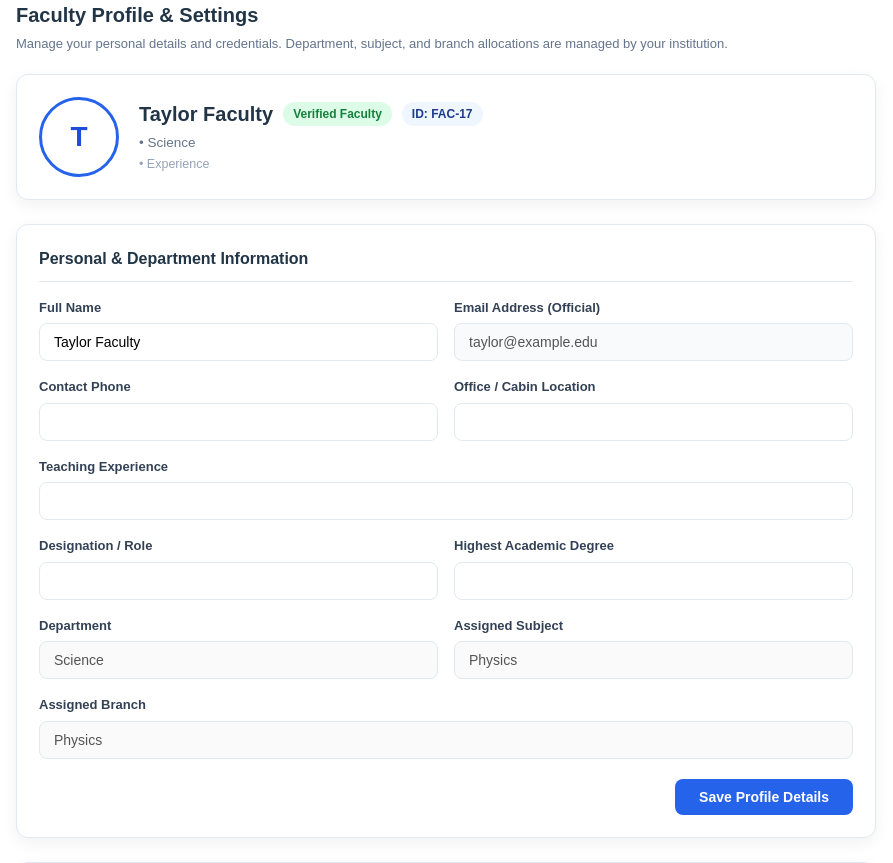
Test: Faculty profile persistence › shows the backend error and does not claim profile changes were saved
The width and height of the screenshot is (893, 863).
Click the button "Save Profile Details" at (764, 796), box [675,778,853,814]
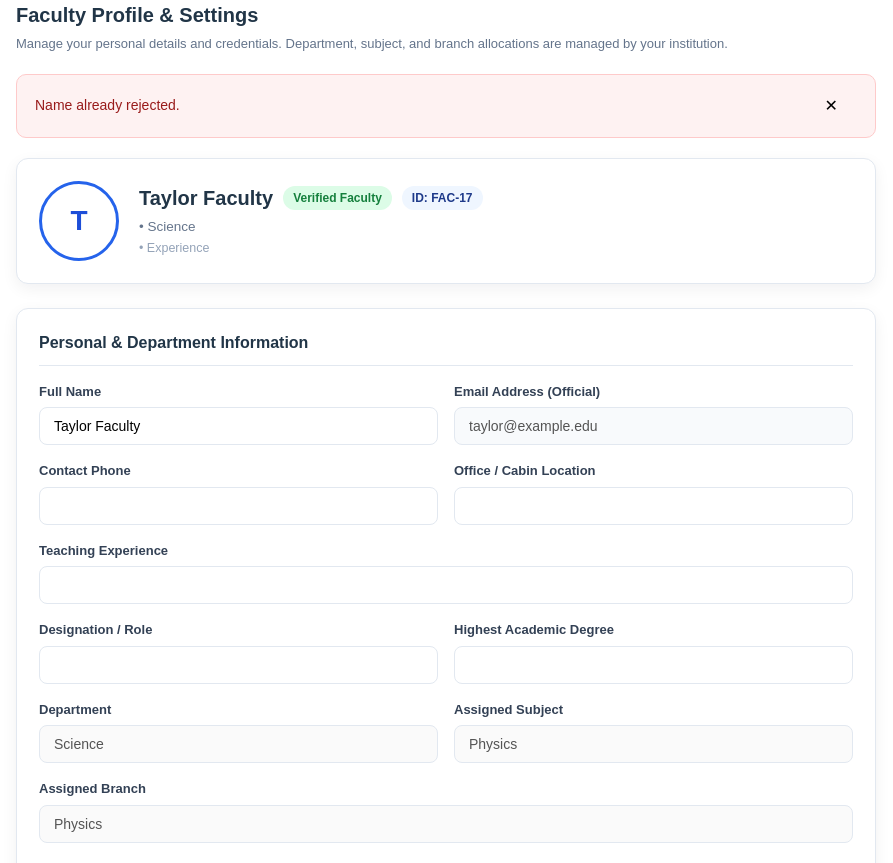
Result: the text "Name already rejected." is shown at [35,95,180,116]
